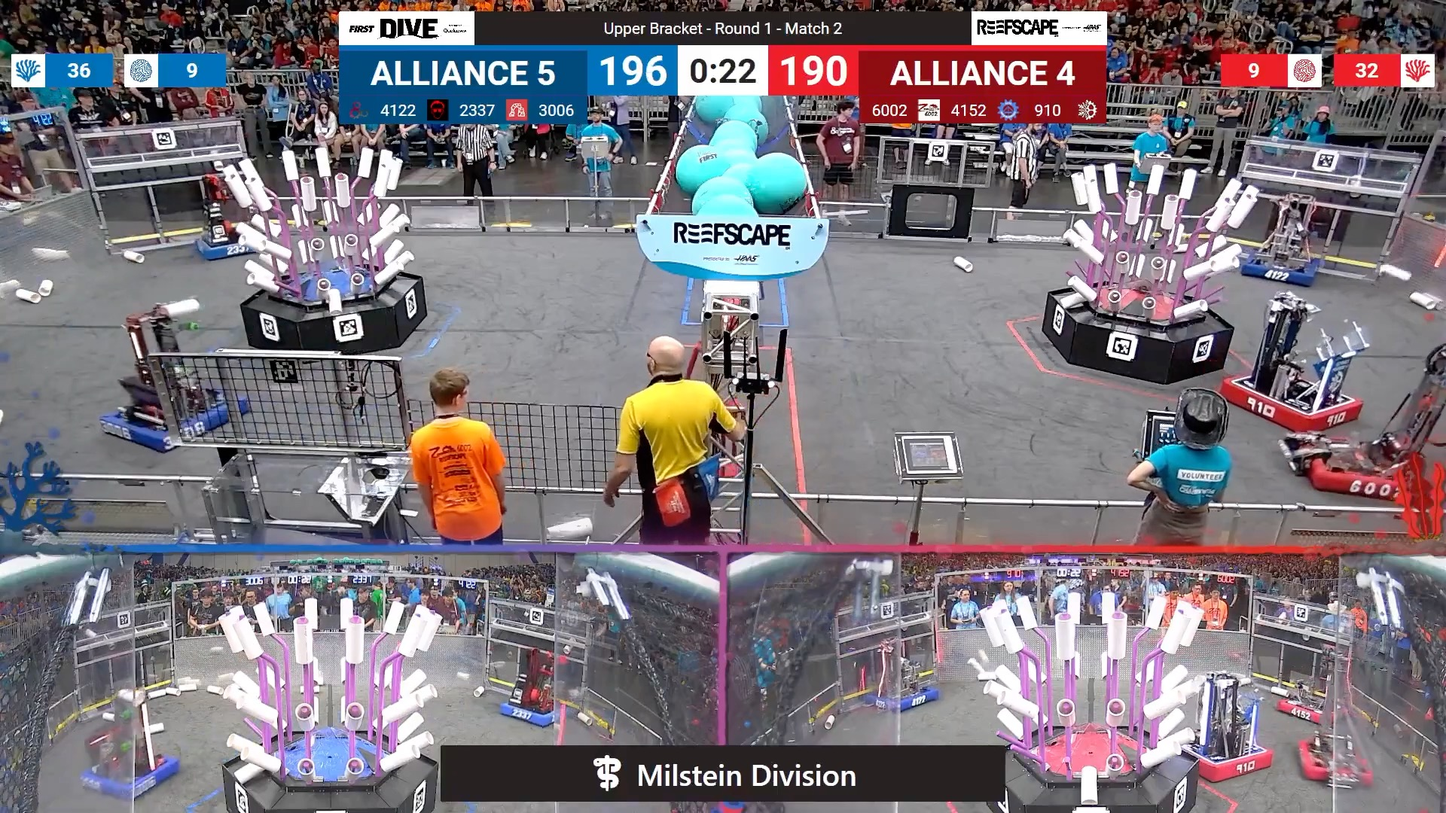bumpers: (90, 394, 252, 458), (1289, 434, 1439, 503), (1210, 376, 1369, 437), (75, 751, 191, 805), (1176, 736, 1277, 782), (1295, 737, 1375, 789), (1230, 248, 1330, 289), (189, 226, 270, 263), (493, 694, 570, 731), (862, 683, 944, 716), (1268, 692, 1339, 725)
